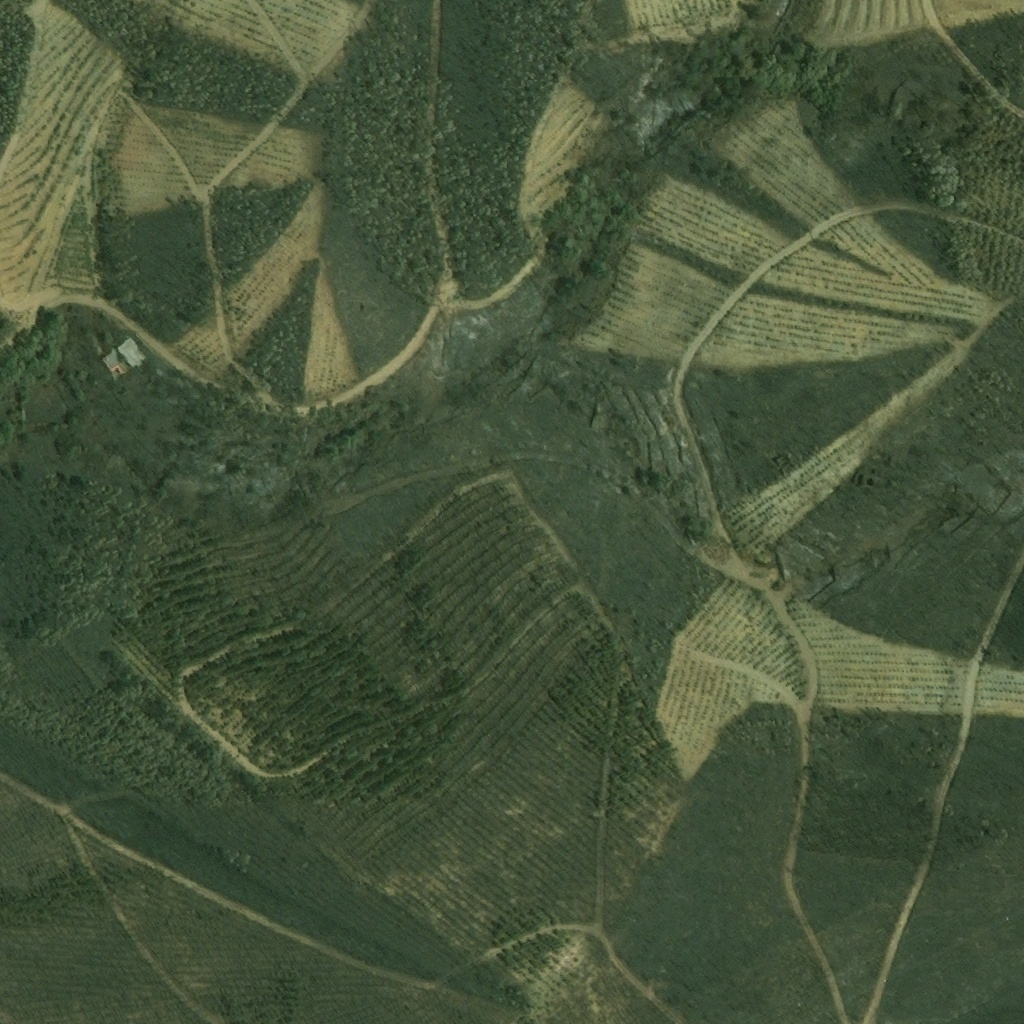0 no-damage: (101, 337, 147, 376)
